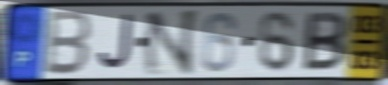6: (256, 9, 298, 74), (199, 11, 238, 74)
B: (42, 9, 95, 78), (300, 10, 349, 74)
J: (95, 12, 134, 73)
N: (141, 7, 201, 78)
